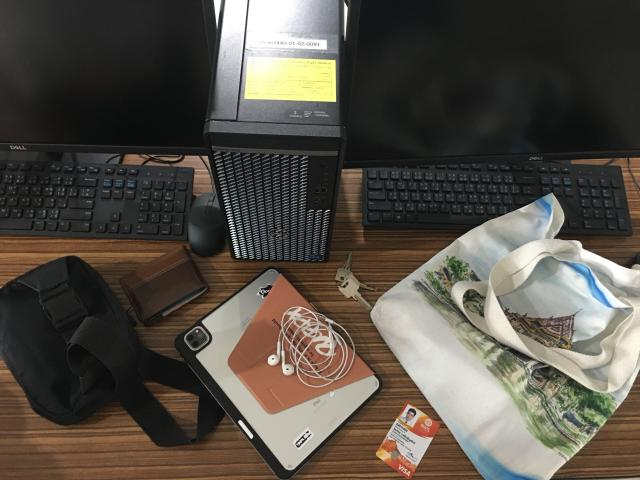Keys: (335, 260, 368, 306)
Mouse: (186, 190, 229, 258)
Wallet: (113, 244, 212, 330)
wire: (267, 308, 354, 383)
